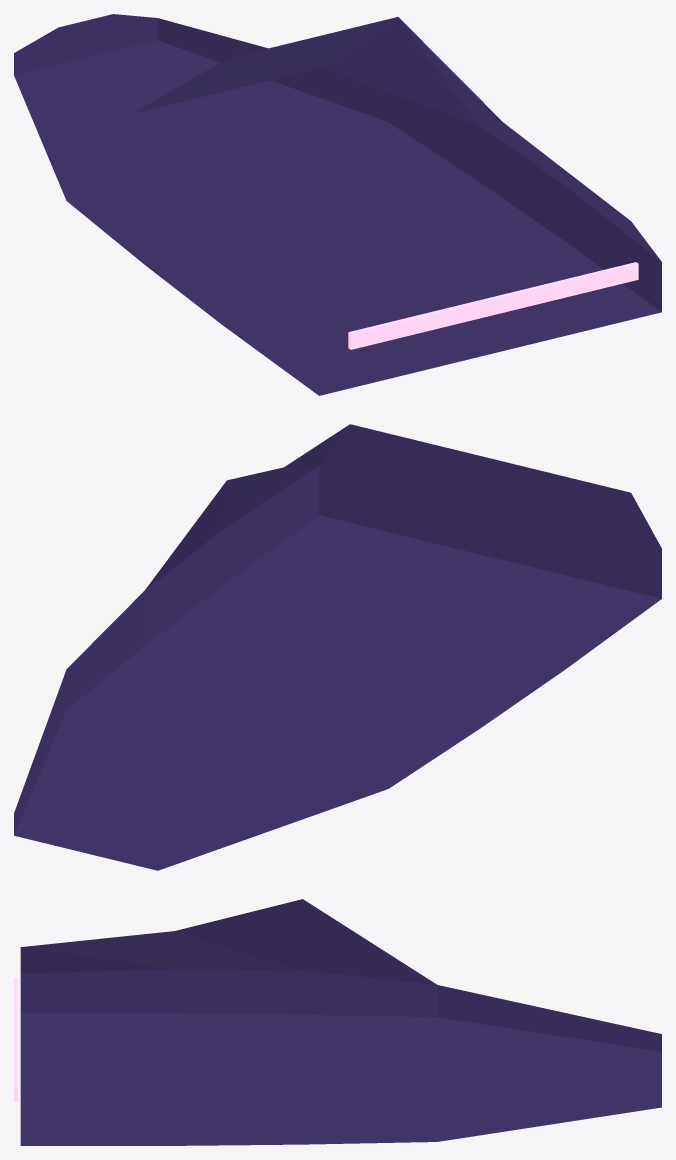
The model's file is 04_afterburner_supercar.glb.
3 views of the same model, one above another, from view 1: azimuth 30°, elevation 25°; view 2: azimuth 150°, elevation 25°; view 3: azimuth 270°, elevation 25° (orthographic). The views are drawn at different scales.
Parts seen in each view (by area): view 1: Afterburner Supercar; view 2: Afterburner Supercar; view 3: Afterburner Supercar.
Boxes of the visible parts, x1,y1,x2,y2 form: Afterburner Supercar: (14, 14, 661, 395); Afterburner Supercar: (14, 424, 661, 870); Afterburner Supercar: (14, 899, 661, 1145).
Bounding box in the file's own units: 2.12 × 1.1 × 4.38.
